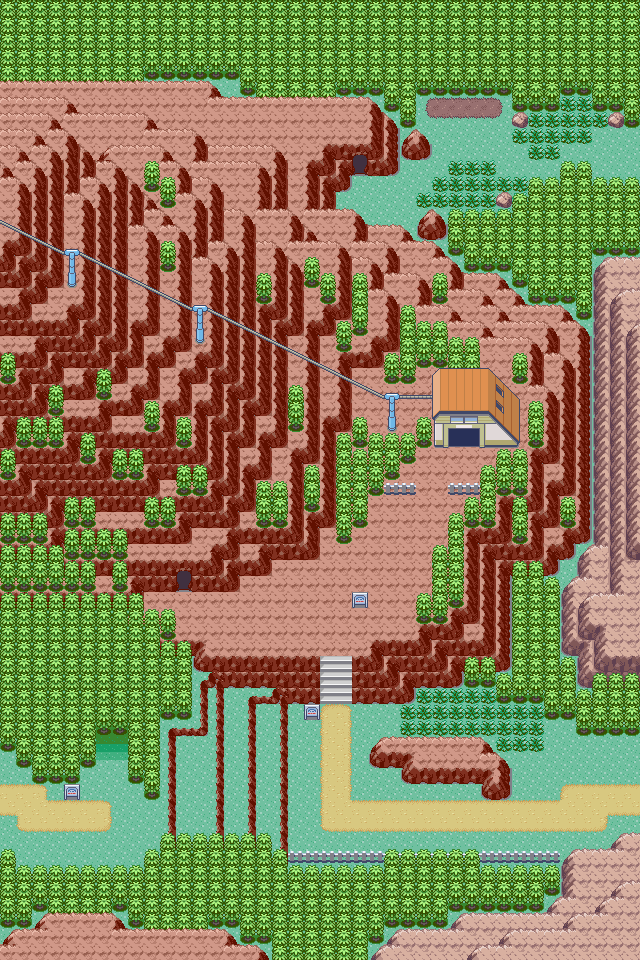cave: (328, 137, 400, 181), (154, 555, 213, 597)
misc: (431, 369, 524, 450), (91, 710, 136, 767)
